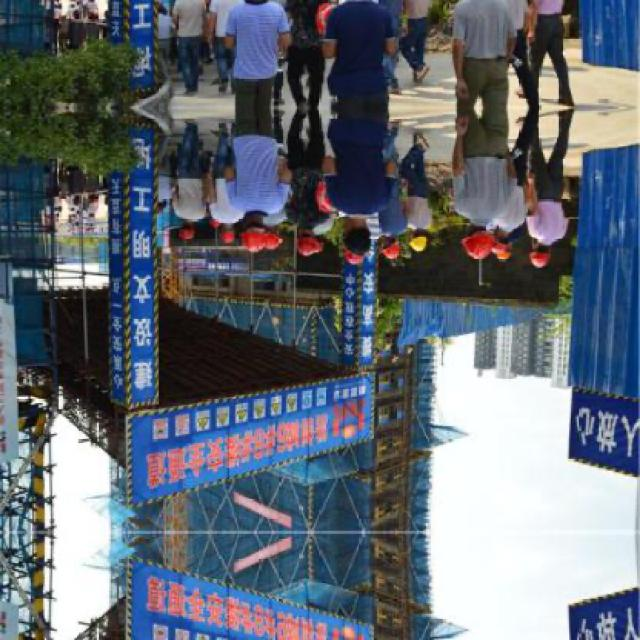con casco: (457, 207, 512, 264), (256, 210, 308, 264), (493, 207, 528, 266), (354, 210, 397, 256), (536, 228, 566, 280), (281, 225, 320, 260), (396, 222, 434, 257)
